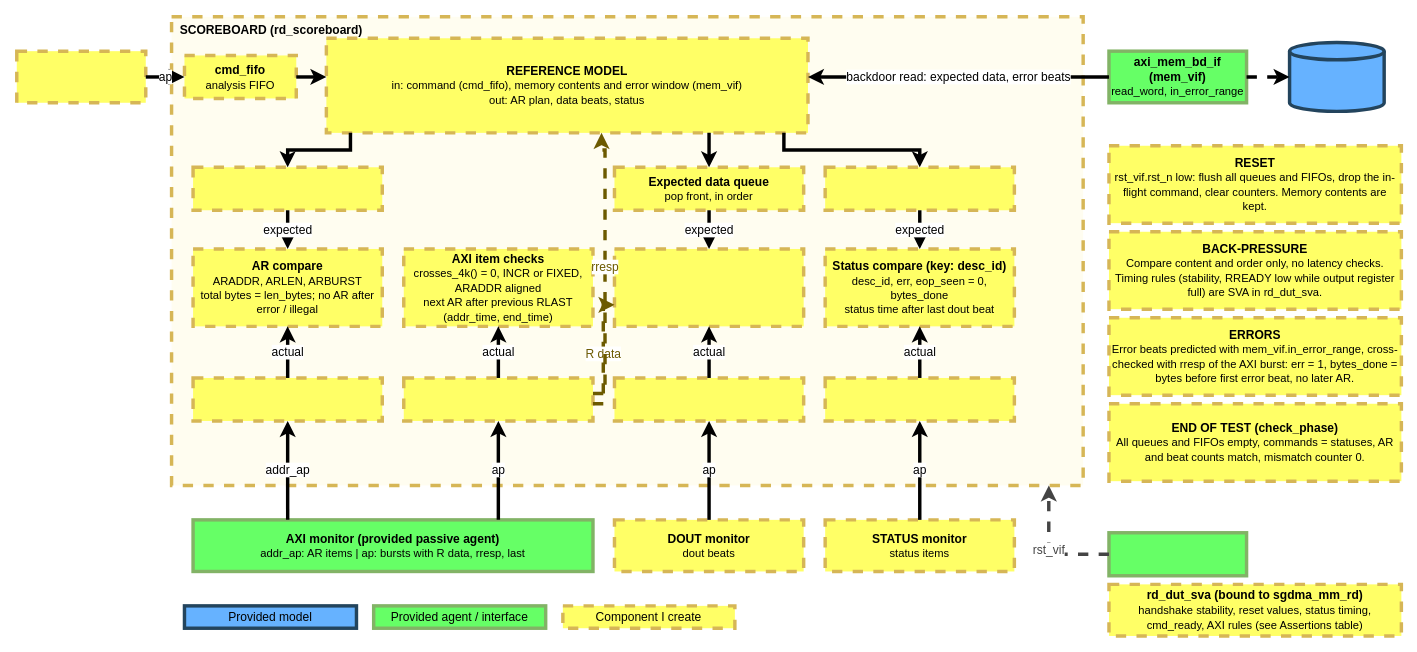
This 1417x652 diagram has some shape labels left out. The shapes that lost their labels are listed below. From the top down, each one's box as (x1, y1, x2, y2) in pixels, then its label:
(15, 49, 147, 104): CMD monitor command items
(1287, 40, 1385, 113): MEMORY_MODEL u_mem
(191, 165, 384, 212): Expected AR queue pop front, in order
(823, 165, 1016, 212): Expected status queue matched by desc_id
(612, 247, 805, 328): Data compare data (valid lanes), keep, last, order dout beat = R beat RDATA
(191, 376, 384, 422): axi_addr_fifo uvm_tlm_analysis_fifo
(402, 376, 594, 422): axi_fifo uvm_tlm_analysis_fifo
(612, 376, 805, 422): dout_fifo uvm_tlm_analysis_fifo
(823, 376, 1016, 422): sts_fifo uvm_tlm_analysis_fifo
(1107, 531, 1248, 577): rst_if (rst_vif) rst_n low: flush
